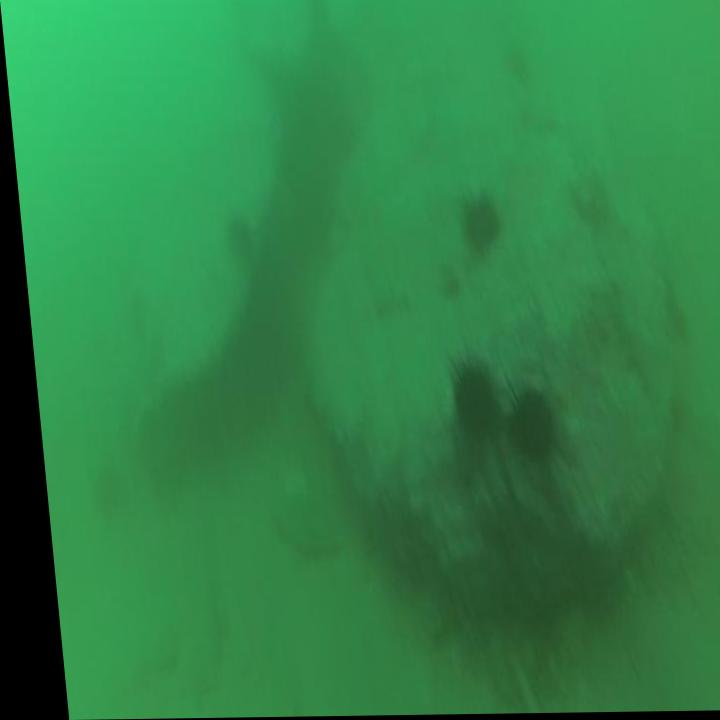echinus: (493, 376, 553, 478), (437, 352, 492, 456), (449, 186, 504, 267), (221, 205, 251, 270)
